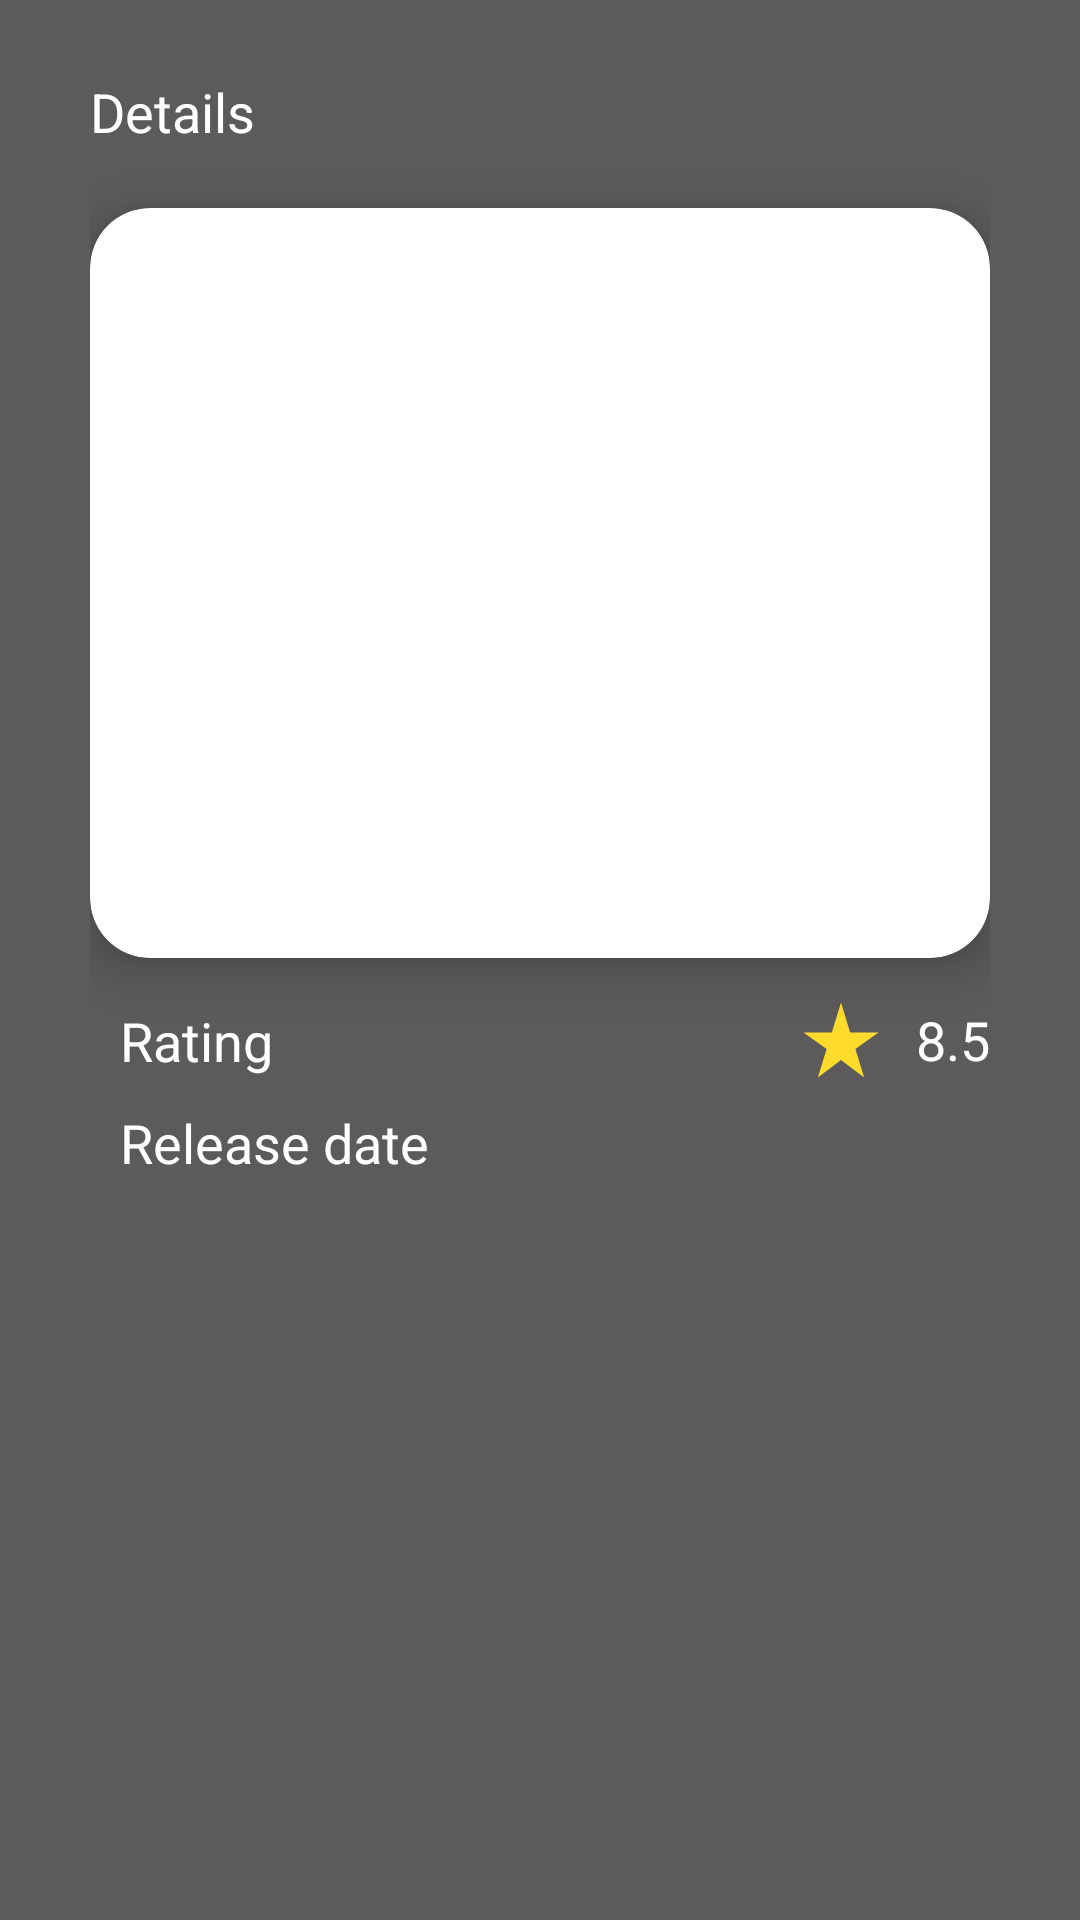

Locate icon controls on the screen. Image size 1080x1920, boxes as BBox(x1, y1, x2, y2).
star: BBox(804, 1003, 878, 1077)
